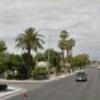cars: (75, 72, 90, 84)
